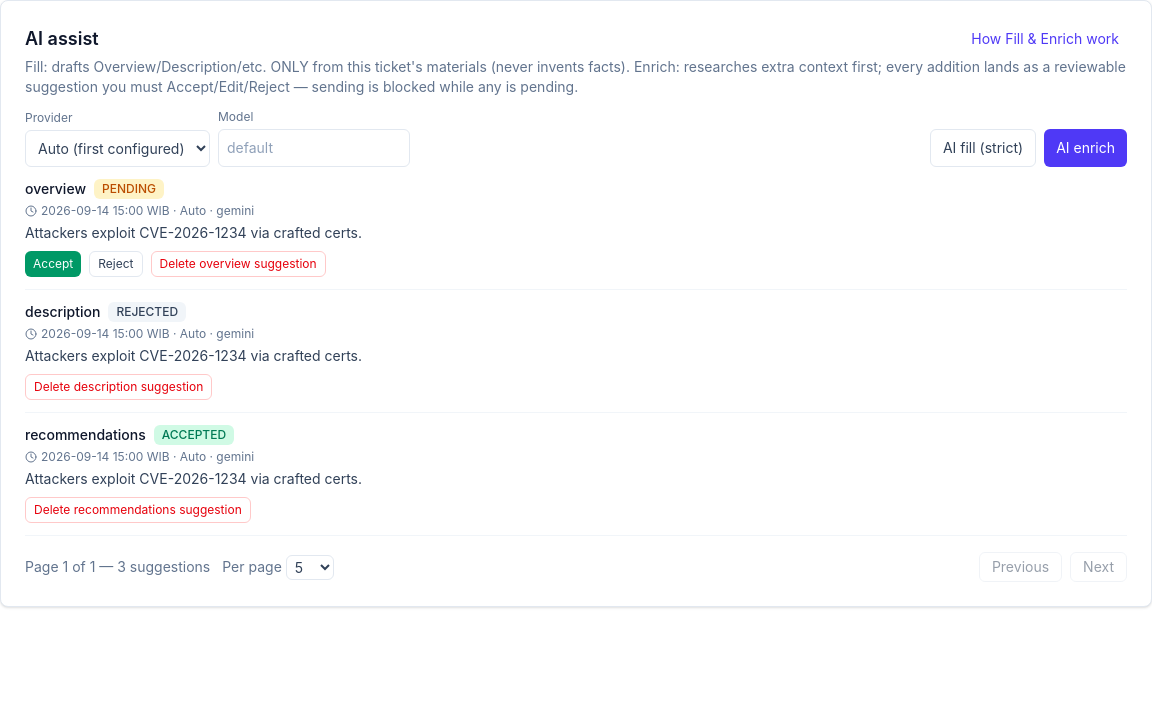
it: TASK-UIFE: suggestion delete via confirm dialog › notes on the dialog and tooltip that merged field values stay
Dialog message for the accepted row
Click the button "Delete recommendations suggestion" at (138, 510), box [25,497,251,523]
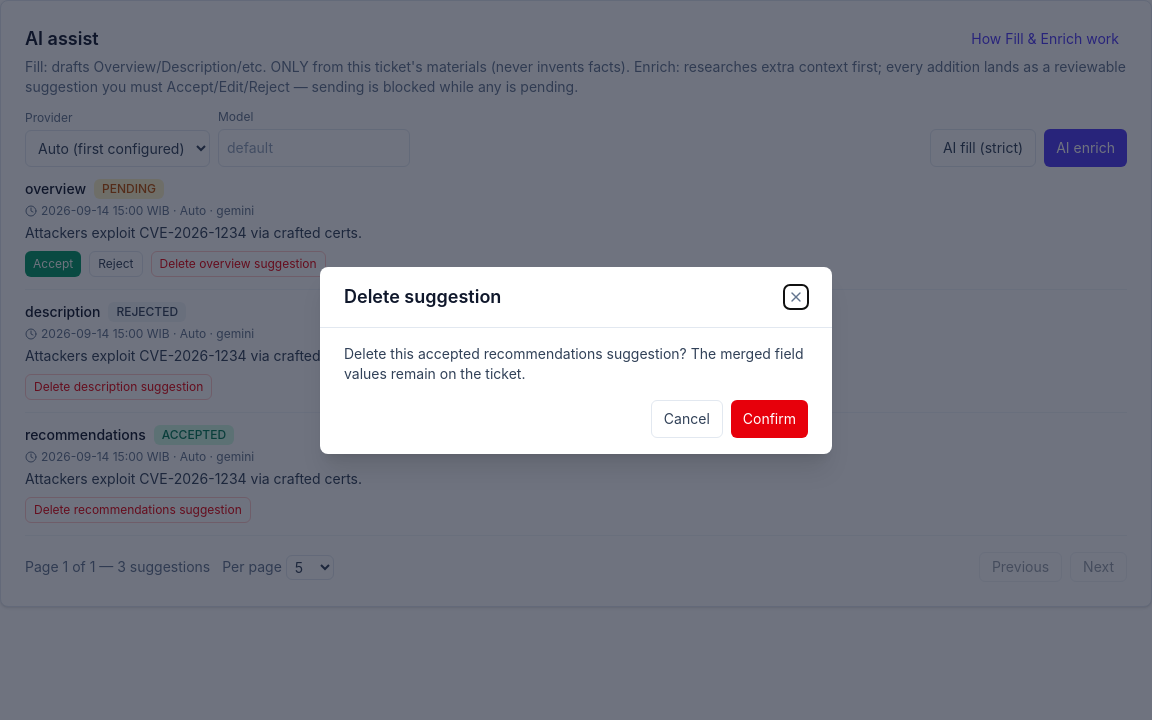
Check: the dialog "Delete suggestion" shows "remain", box [344,344,804,382]
